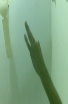hand: (22, 20, 48, 75)
